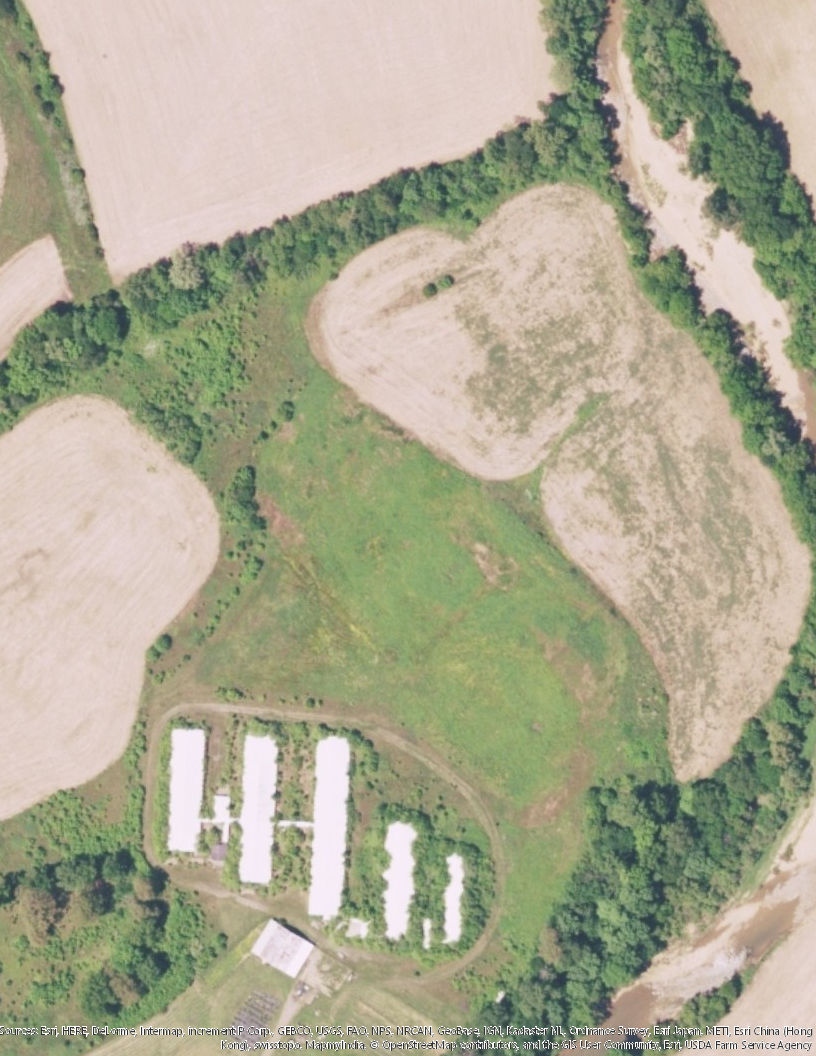cafo: (307, 734, 353, 916), (234, 734, 278, 886), (164, 725, 207, 852), (382, 819, 417, 941), (440, 849, 467, 949)
